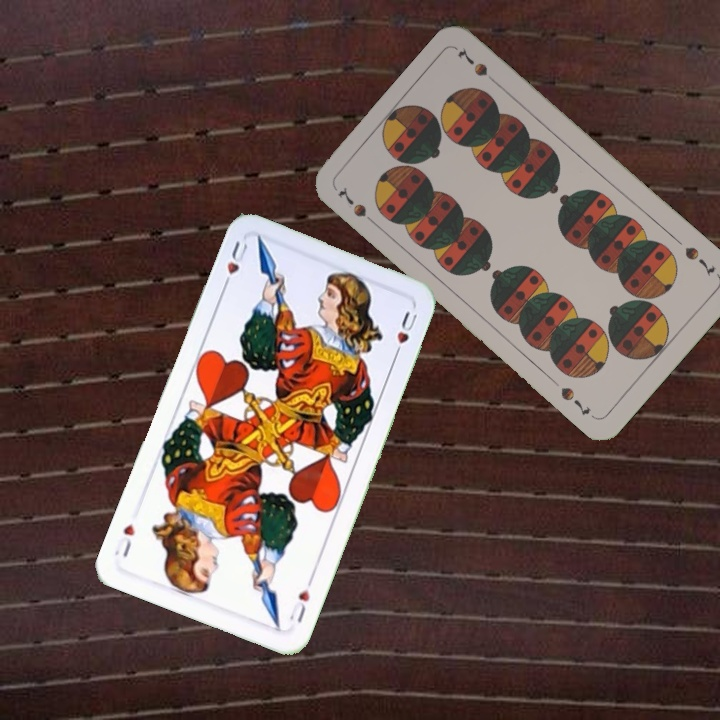HU: (218, 236, 252, 292), (285, 574, 316, 625)
S7: (334, 183, 381, 229), (680, 242, 718, 278)
